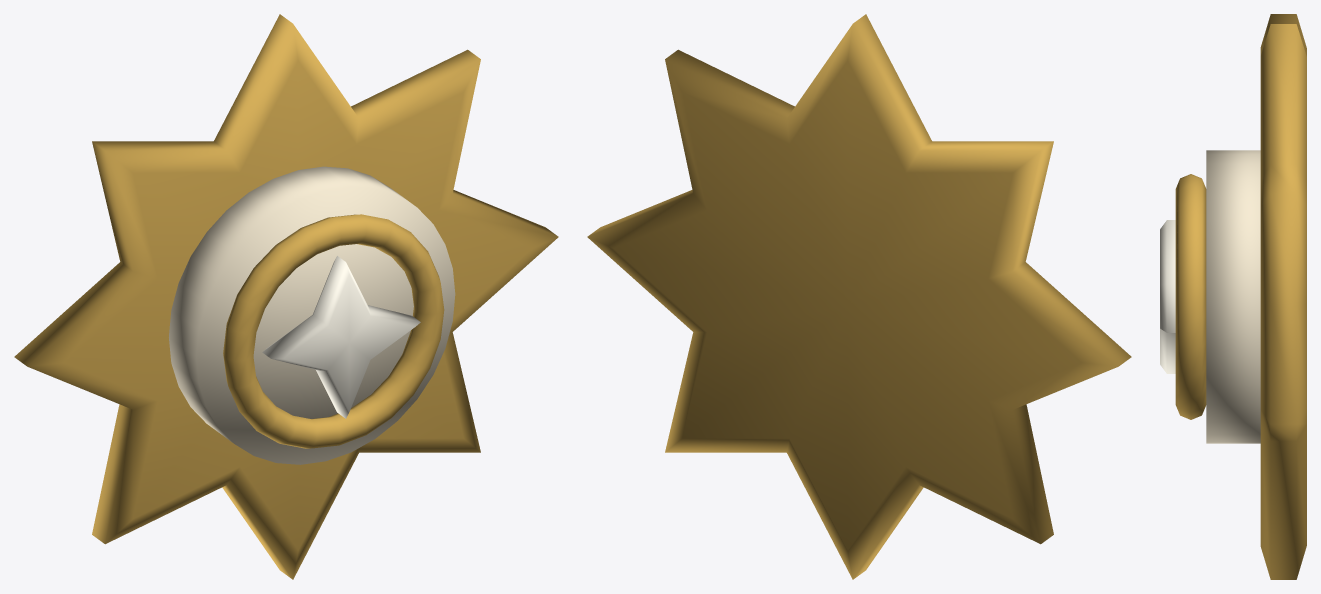
File: prime_sun_brooch.glb
The picture shows the model from 3 angles, left to right: view 1: azimuth 30°, elevation 25°; view 2: azimuth 150°, elevation 25°; view 3: azimuth 270°, elevation 25°; orthographic projection.
Parts seen in each view (by area): view 1: prime_sun_brooch_metal, prime_sun_brooch_accent, prime_sun_brooch_light; view 2: prime_sun_brooch_metal; view 3: prime_sun_brooch_metal, prime_sun_brooch_accent, prime_sun_brooch_light.
Boxes of the visible parts, x1,y1,x2,y2 form: prime_sun_brooch_metal: (14, 14, 558, 579); prime_sun_brooch_accent: (169, 166, 455, 464); prime_sun_brooch_light: (262, 256, 420, 418); prime_sun_brooch_metal: (587, 14, 1131, 579); prime_sun_brooch_metal: (1175, 14, 1306, 579); prime_sun_brooch_accent: (1206, 150, 1260, 443); prime_sun_brooch_light: (1160, 220, 1175, 373).
Size of the model in its own units: 0.078 by 0.078 by 0.019.
